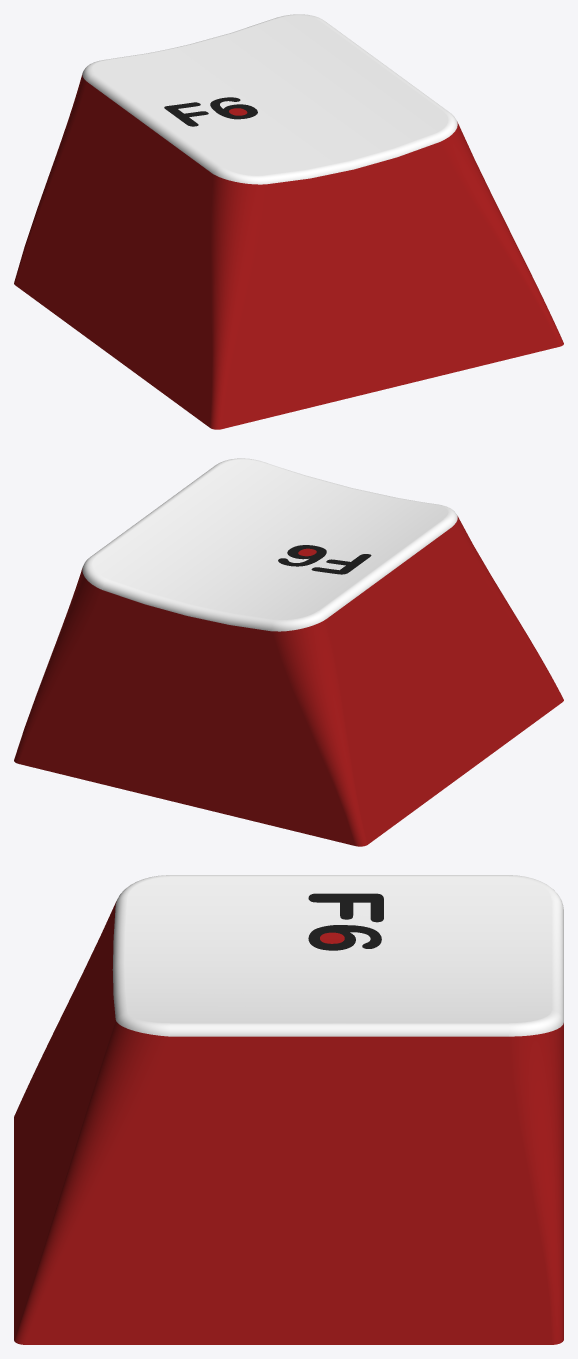
3 renders of one model, top to bottom at view 1: azimuth 30°, elevation 25°; view 2: azimuth 150°, elevation 25°; view 3: azimuth 270°, elevation 25°, orthographic. The views are drawn at different scales.
Visible parts, largest first — view 1: Body1; view 2: Body1; view 3: Body1.
Part boxes in pixels (box(x1,y1,x2,y2)): Body1: box(14, 14, 563, 429); Body1: box(14, 458, 563, 846); Body1: box(14, 875, 563, 1344).
Size of the model in its own units: 18 by 10.07 by 18.
